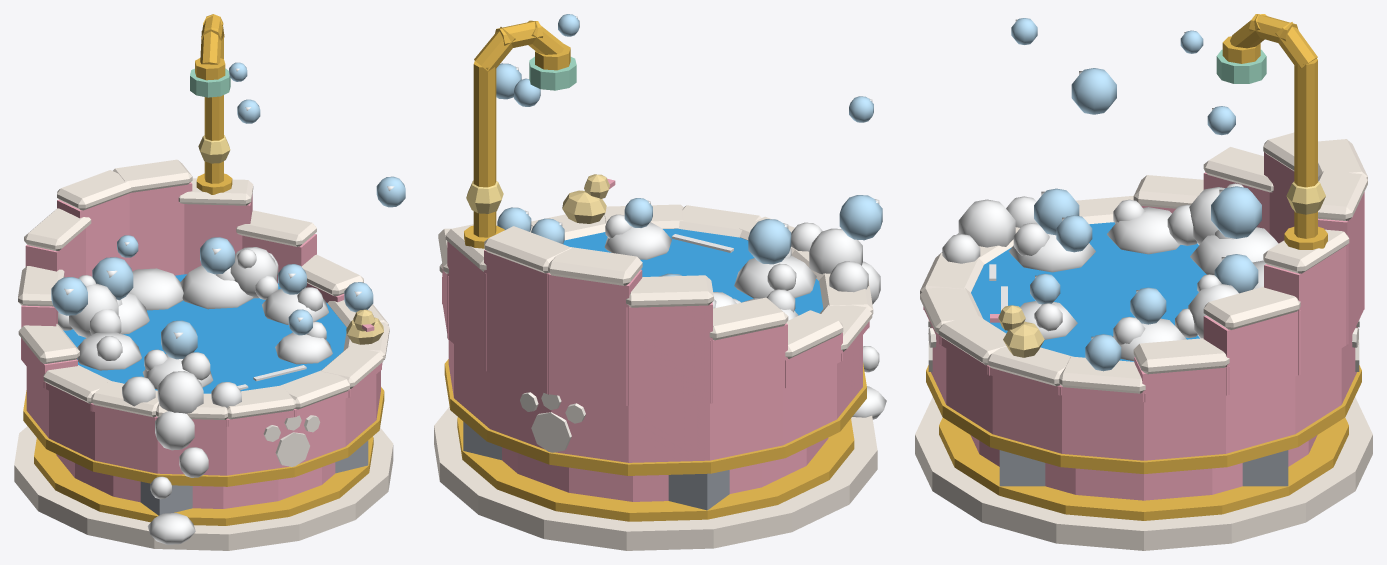
File: CleanACat_Station_BubbleBath.fbx
3 views of the same model, side by side, from view 1: azimuth 30°, elevation 25°; view 2: azimuth 150°, elevation 25°; view 3: azimuth 270°, elevation 25° (orthographic). The views are drawn at different scales.
Visible parts, largest first — view 1: CleanACat_Station_BubbleBath, CleanACat_Station_BubbleBath_Foam, CleanACat_Station_BubbleBath_Water, CleanACat_Station_BubbleBath_Bubbles, CleanACat_Station_BubbleBath_Barrier, CleanACat_Station_BubbleBath_Spout; view 2: CleanACat_Station_BubbleBath, CleanACat_Station_BubbleBath_Foam, CleanACat_Station_BubbleBath_Bubbles, CleanACat_Station_BubbleBath_Water, CleanACat_Station_BubbleBath_Barrier, CleanACat_Station_BubbleBath_Spout; view 3: CleanACat_Station_BubbleBath, CleanACat_Station_BubbleBath_Foam, CleanACat_Station_BubbleBath_Water, CleanACat_Station_BubbleBath_Bubbles, CleanACat_Station_BubbleBath_Barrier, CleanACat_Station_BubbleBath_Spout.
Boxes of the visible parts, <box> form: CleanACat_Station_BubbleBath: <box>14,14,393,550</box>; CleanACat_Station_BubbleBath_Foam: <box>58,247,332,544</box>; CleanACat_Station_BubbleBath_Water: <box>63,274,346,393</box>; CleanACat_Station_BubbleBath_Bubbles: <box>51,62,405,359</box>; CleanACat_Station_BubbleBath_Barrier: <box>140,440,368,515</box>; CleanACat_Station_BubbleBath_Spout: <box>190,68,230,97</box>; CleanACat_Station_BubbleBath: <box>434,20,877,550</box>; CleanACat_Station_BubbleBath_Foam: <box>604,214,886,419</box>; CleanACat_Station_BubbleBath_Bubbles: <box>496,14,882,276</box>; CleanACat_Station_BubbleBath_Water: <box>563,228,823,315</box>; CleanACat_Station_BubbleBath_Barrier: <box>463,421,729,510</box>; CleanACat_Station_BubbleBath_Spout: <box>529,56,576,90</box>; CleanACat_Station_BubbleBath: <box>915,14,1372,550</box>; CleanACat_Station_BubbleBath_Foam: <box>942,183,1278,360</box>; CleanACat_Station_BubbleBath_Water: <box>971,222,1206,361</box>; CleanACat_Station_BubbleBath_Bubbles: <box>1011,18,1261,371</box>; CleanACat_Station_BubbleBath_Barrier: <box>999,450,1288,486</box>; CleanACat_Station_BubbleBath_Spout: <box>1216,49,1266,83</box>.
Size of the model in its own units: 4.76 by 5.24 by 4.6.
Materials: 1 (1 with a texture image).
